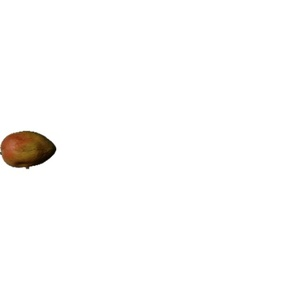mamão: (1, 126, 55, 172)
